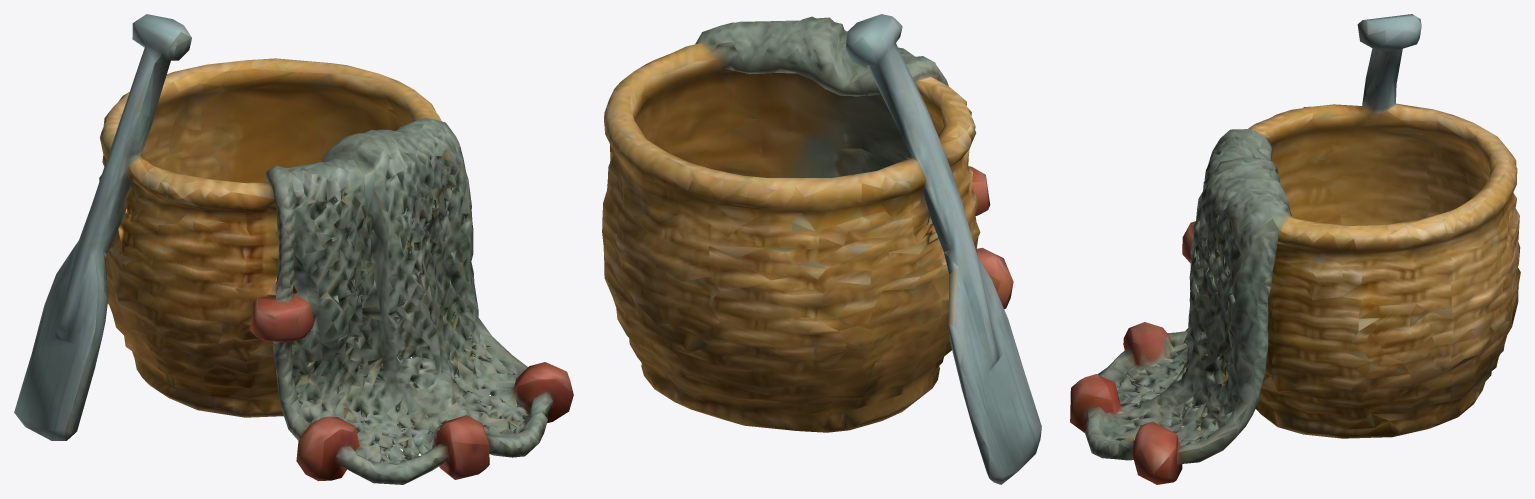
File: sc-net-basket.glb
3 renders of one model, left to right at view 1: azimuth 30°, elevation 25°; view 2: azimuth 150°, elevation 25°; view 3: azimuth 270°, elevation 25°, orthographic. The views are drawn at different scales.
Visible parts, largest first — view 1: geometry_0; view 2: geometry_0; view 3: geometry_0.
Boxes of the visible parts, <box> form: geometry_0: <box>14,14,573,484</box>; geometry_0: <box>602,14,1041,484</box>; geometry_0: <box>1070,14,1520,484</box>.
Bounding box in the file's own units: 1 × 0.874 × 1.
Materials: 1 (1 with a texture image).
